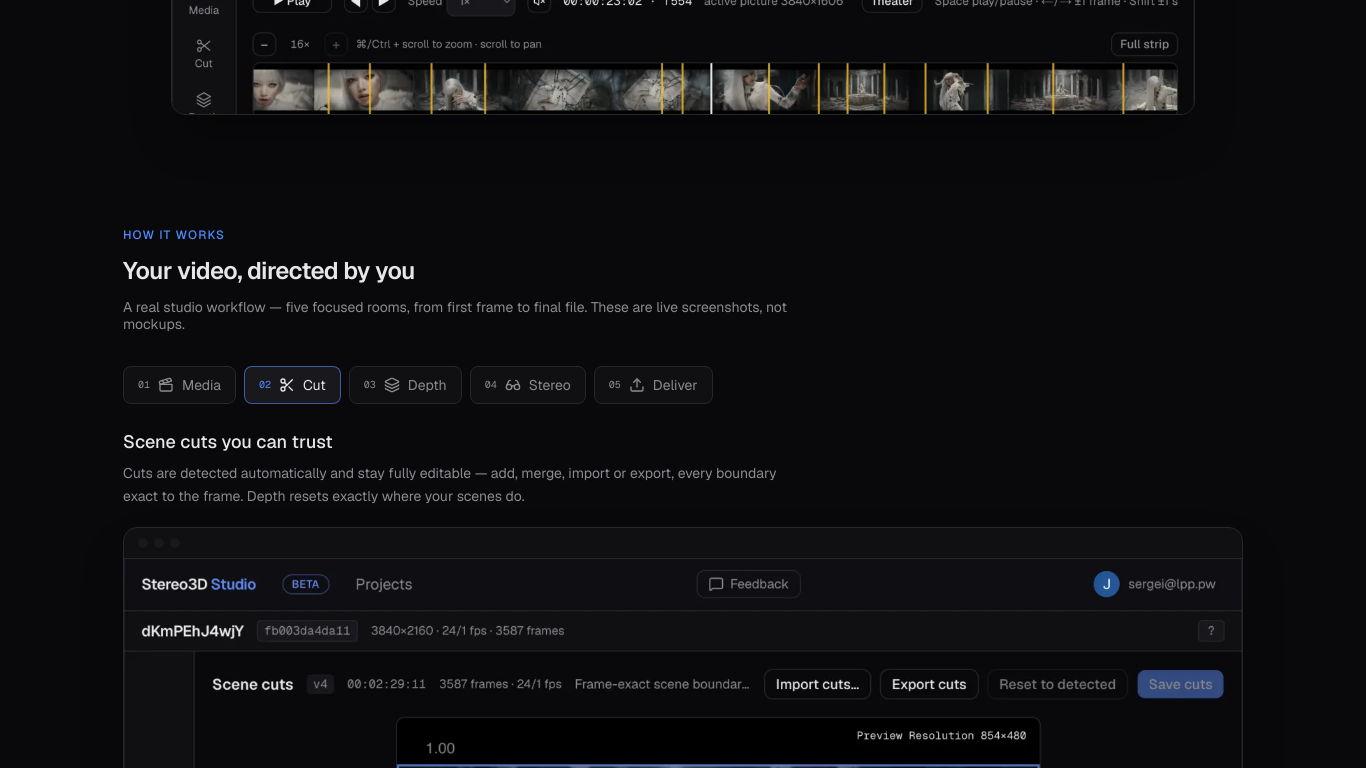
Test case: landing page › switches the workflow panel when a tab is clicked
(page scrolled)
expect the heading "Scene cuts you can trust" is shown: met, box [123, 430, 333, 453]
Click the tab "04 Stereo".
click(528, 385)  # box [470, 366, 586, 404]
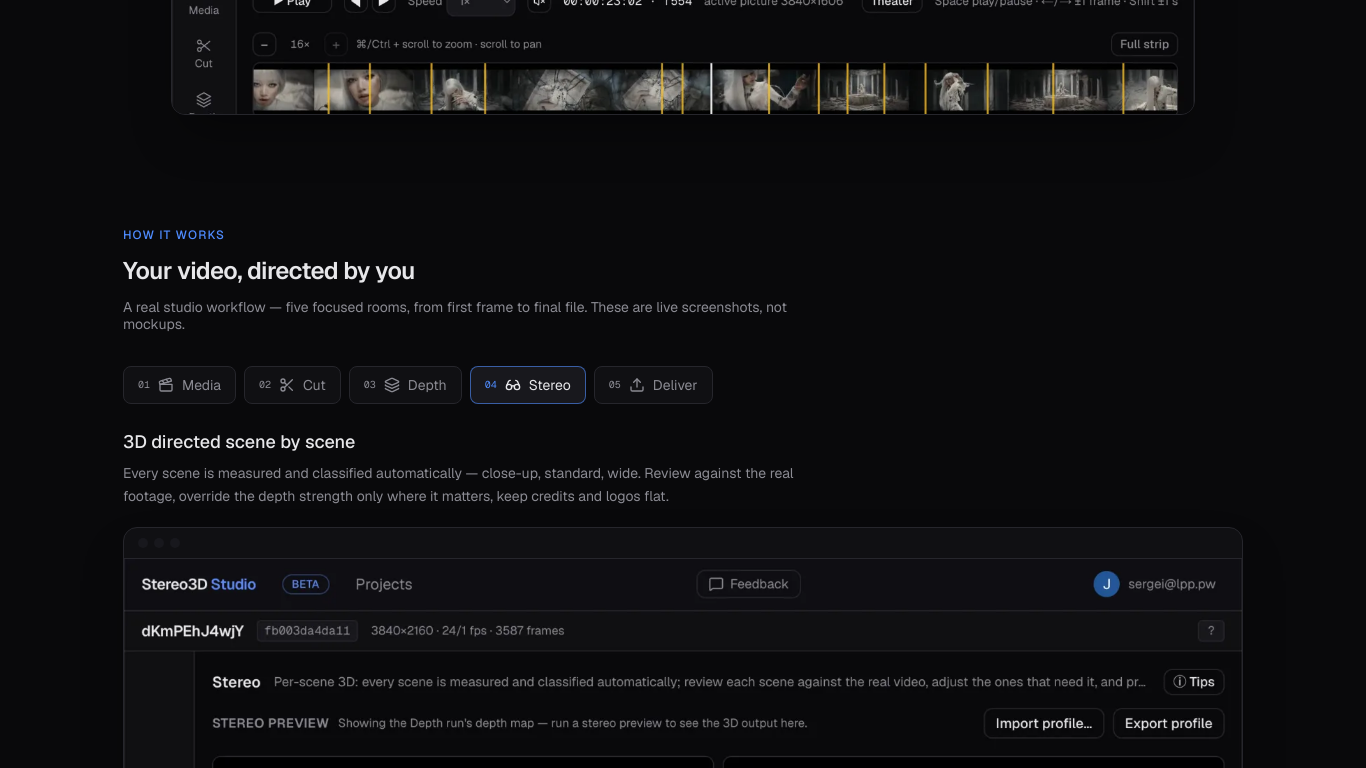
expect the heading "3D directed scene by scene" is shown: met, box [123, 430, 355, 453]
